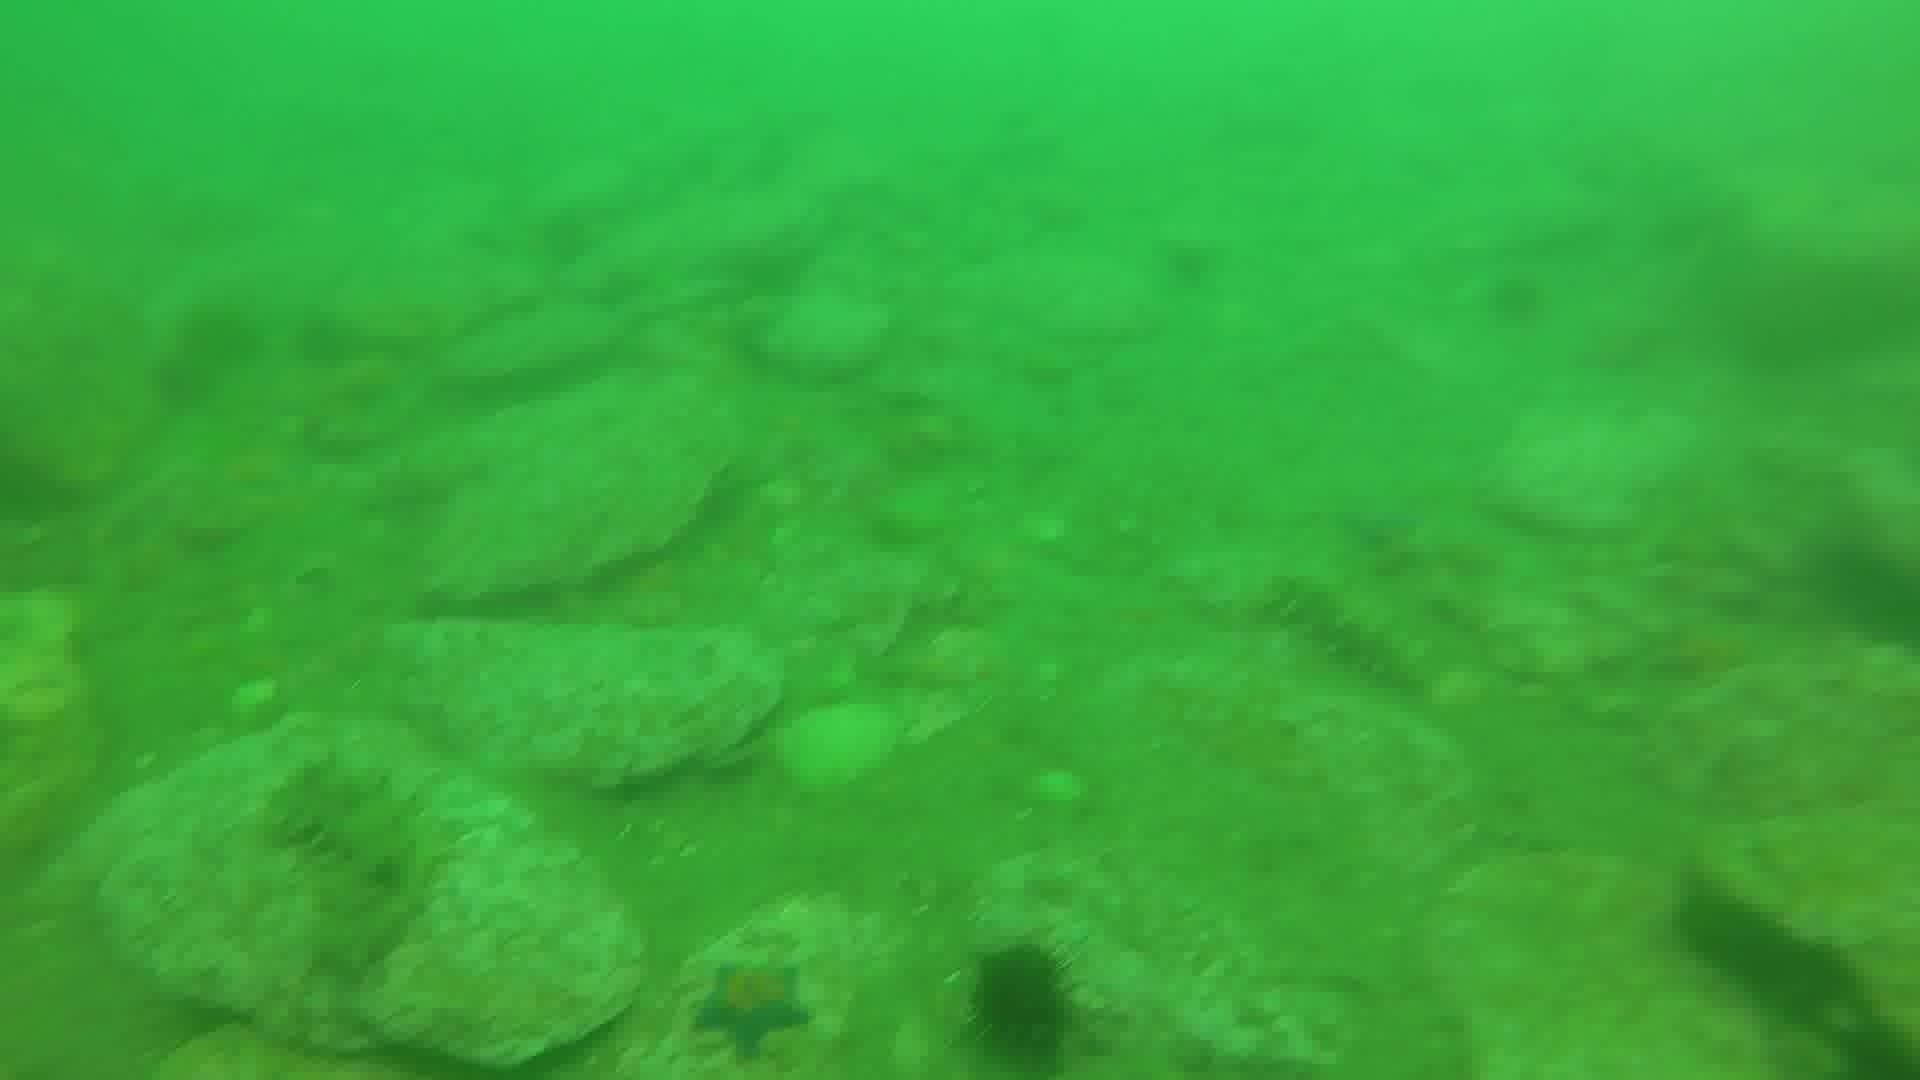echinus: (963, 940, 1083, 1067), (1807, 529, 1917, 654), (173, 298, 262, 375), (1480, 269, 1551, 331), (1155, 235, 1222, 295)
holothurian: (266, 756, 444, 980), (1266, 570, 1433, 698)
starfish: (687, 953, 818, 1060)
